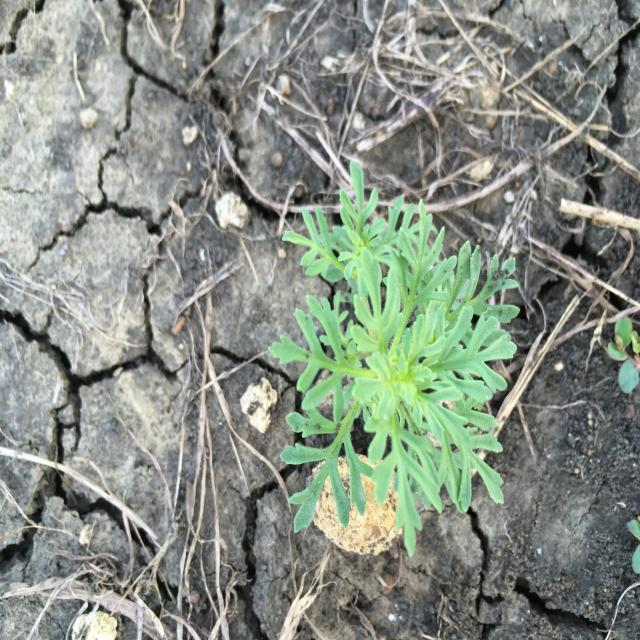Ragweed: (267, 159, 523, 561)
